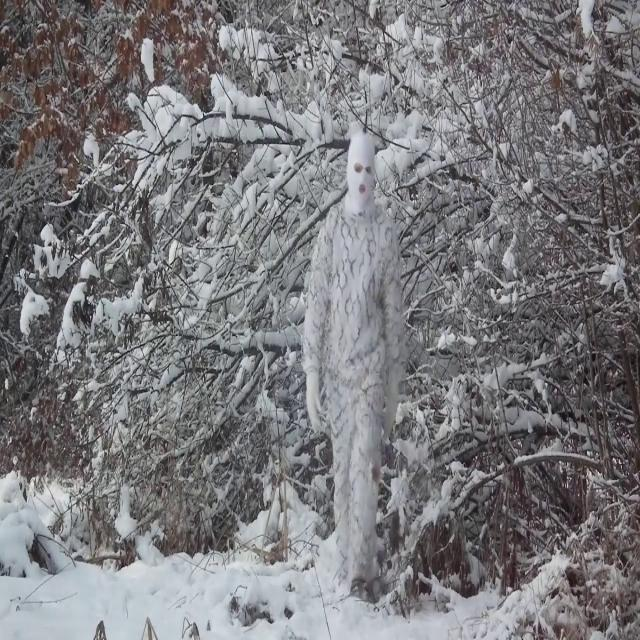Camouflage: (303, 134, 403, 604)
